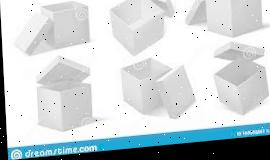cube: (36, 79, 95, 137), (120, 59, 170, 118)
